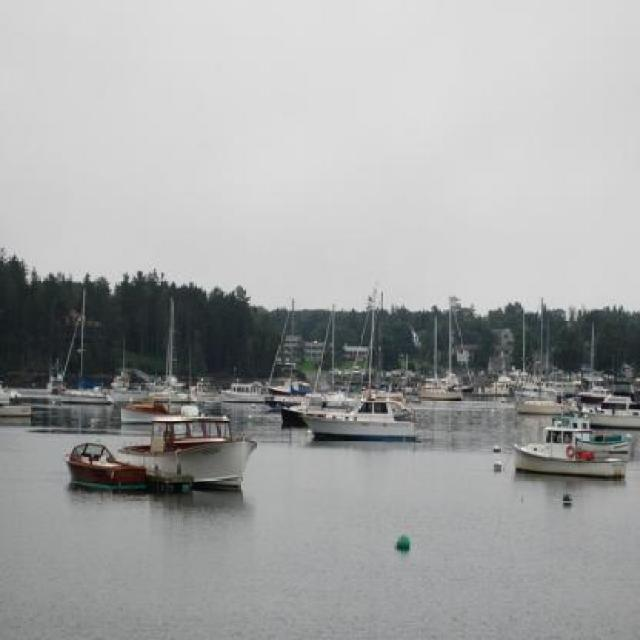ship: (118, 409, 252, 505), (36, 281, 119, 408), (483, 418, 625, 487), (66, 439, 143, 523), (298, 399, 431, 443), (415, 298, 460, 402)
